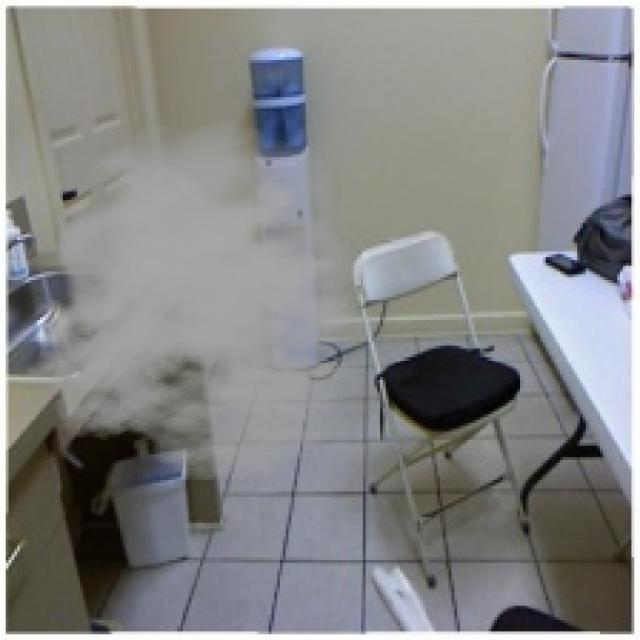Smoke: (23, 120, 400, 483)
